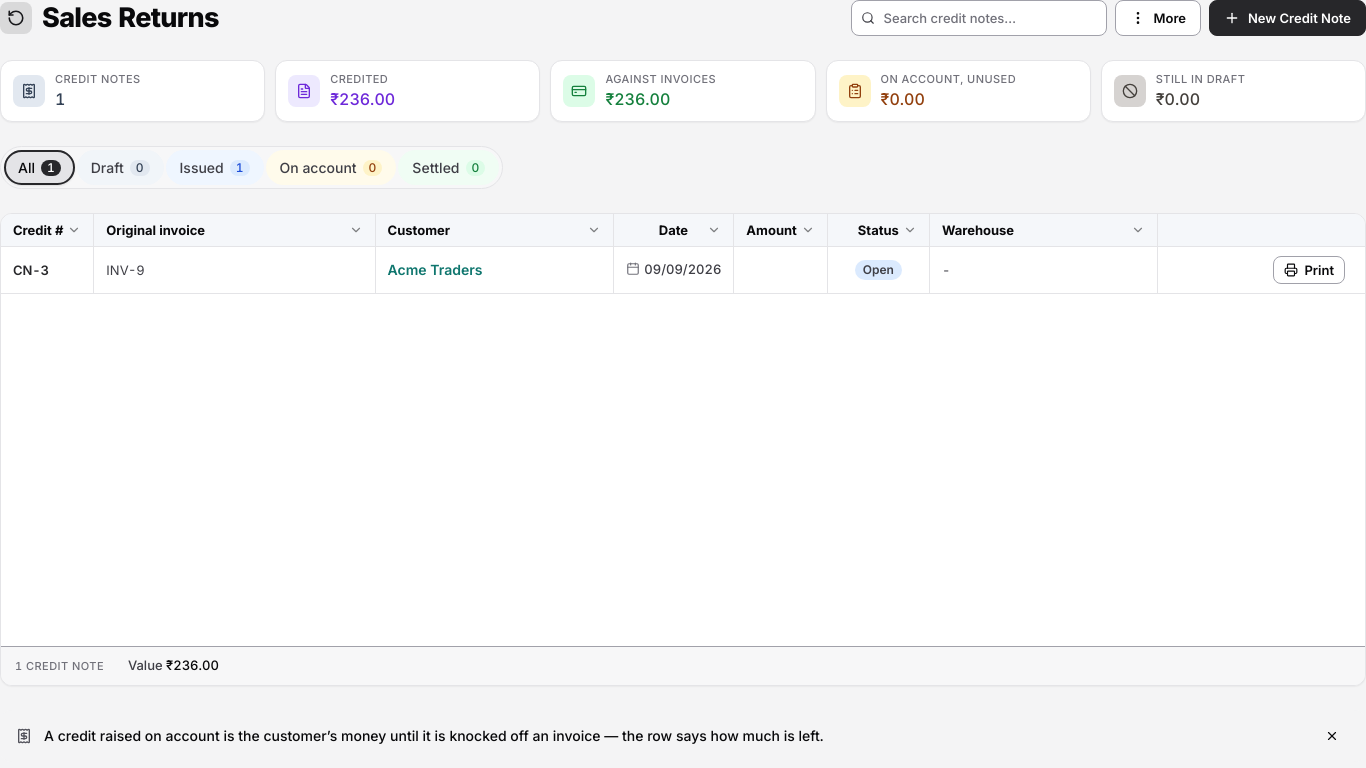
Test: printing a credit note › puts the note on paper against its original invoice
Step 1. Click the button with aria-label "Print credit note CN-3" → [1309, 270], box [1273, 256, 1345, 284]
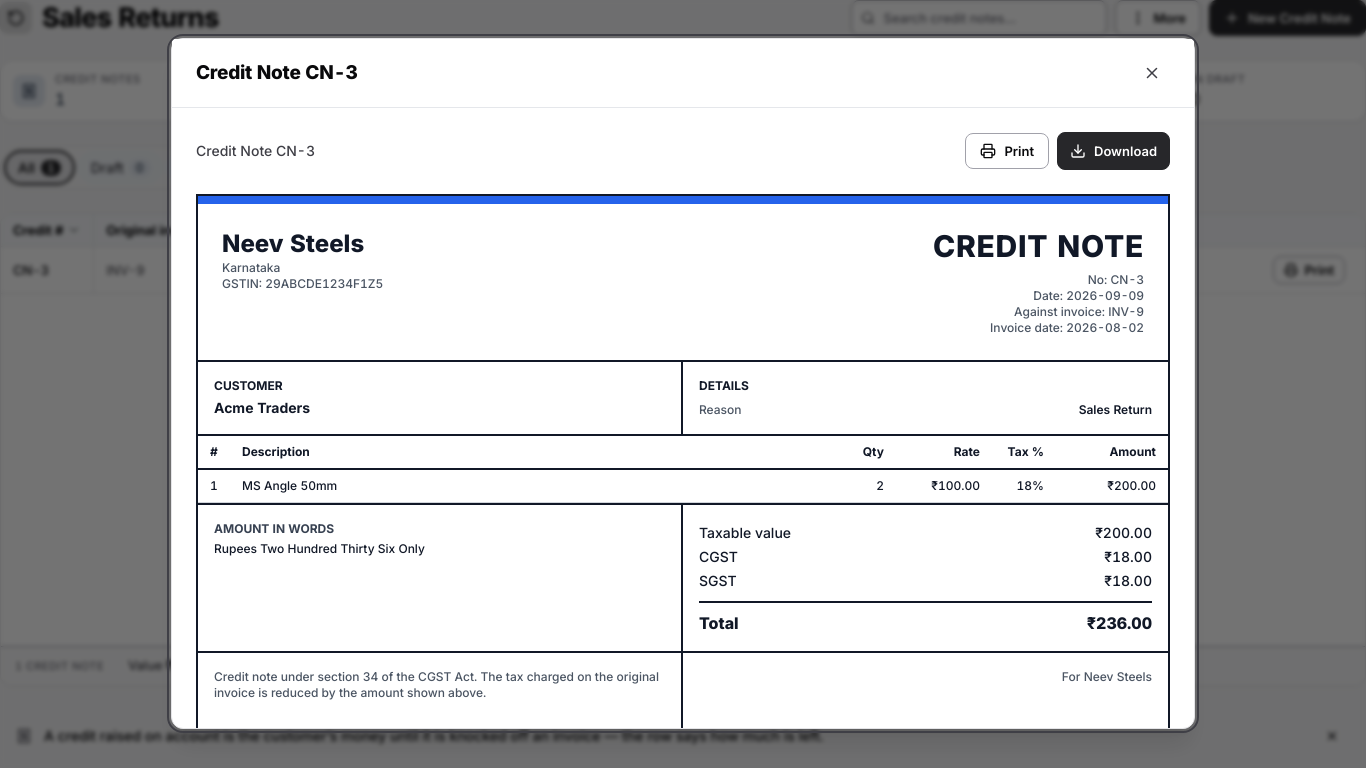
Expected: the element that starts with "Neev Steels" is shown, [196, 194, 1170, 729]
Expected: the text "CREDIT NOTE" is shown, [933, 228, 1144, 264]
Expected: the text "No: CN-3" is shown, [1088, 272, 1144, 287]
